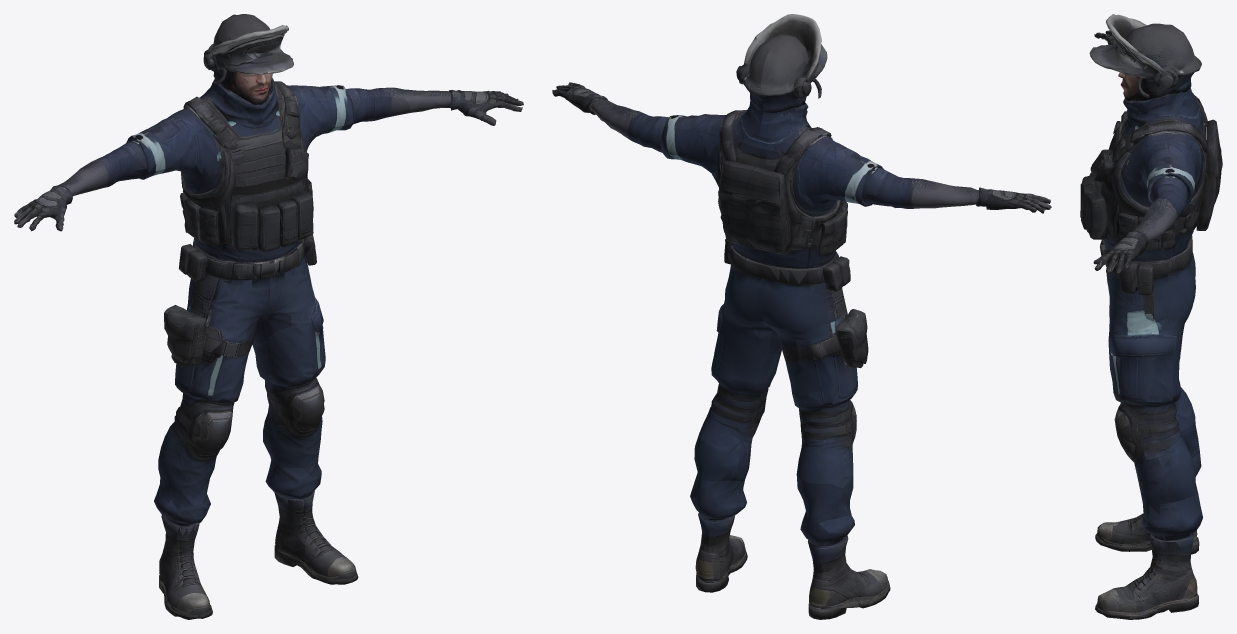
The model's file is saber-ct.fbx.
3 renders of one model, left to right at view 1: azimuth 30°, elevation 25°; view 2: azimuth 150°, elevation 25°; view 3: azimuth 270°, elevation 25°, orthographic. The views are drawn at different scales.
Parts seen in each view (by area): view 1: char1; view 2: char1; view 3: char1.
Part boxes in pixels (box(x1,y1,x2,y2)): char1: box(14, 14, 523, 619); char1: box(552, 14, 1051, 619); char1: box(1080, 14, 1222, 619).
Size of the model in its own units: 167 by 180 by 41.75.
Materials: 1 (1 with a texture image).
